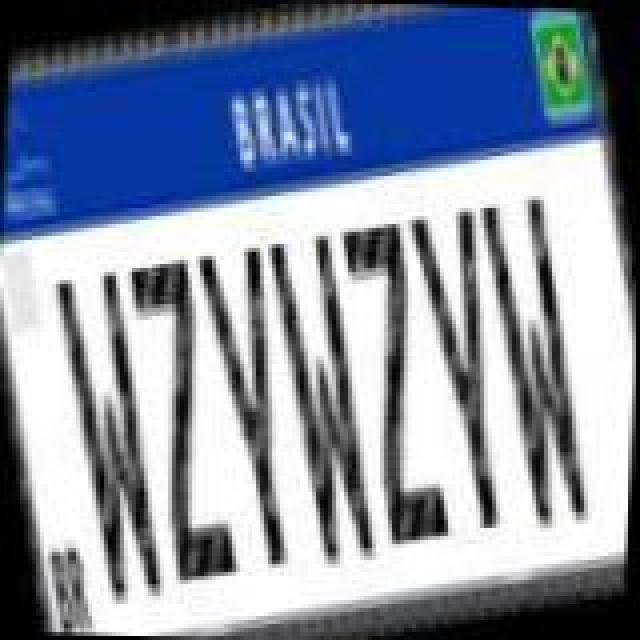W: (460, 186, 608, 534), (36, 264, 184, 608), (248, 228, 396, 572)
Y: (178, 238, 326, 574), (392, 198, 540, 534)
Z: (322, 210, 466, 546), (114, 252, 254, 588)
